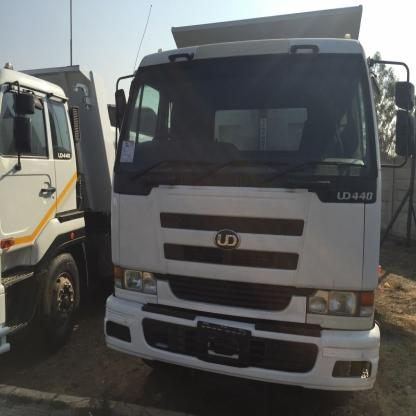dump_truck: (115, 7, 406, 398), (0, 37, 112, 399)
